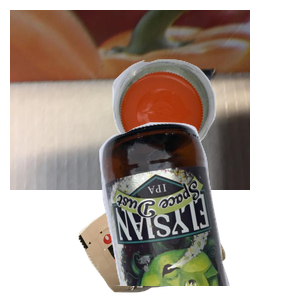cardboard: (10, 10, 250, 190)
glass: (97, 120, 300, 300)
plastic: (110, 57, 300, 205)
trash: (76, 170, 300, 300)
